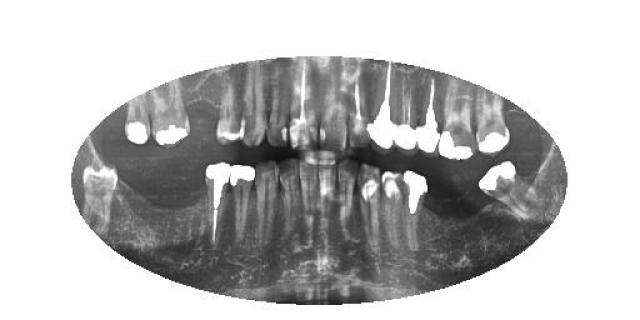Fillings: (478, 161, 538, 220), (439, 79, 475, 159), (148, 80, 190, 146), (475, 89, 510, 155), (402, 170, 428, 249), (230, 164, 256, 238), (124, 93, 151, 145)
Implant: (369, 61, 395, 150), (204, 162, 230, 246), (415, 74, 439, 152), (394, 78, 416, 154)
